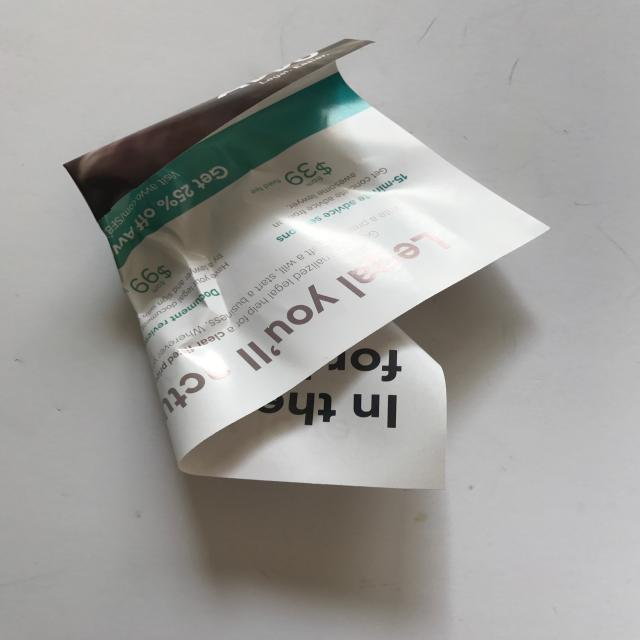paper: (47, 26, 575, 540)
